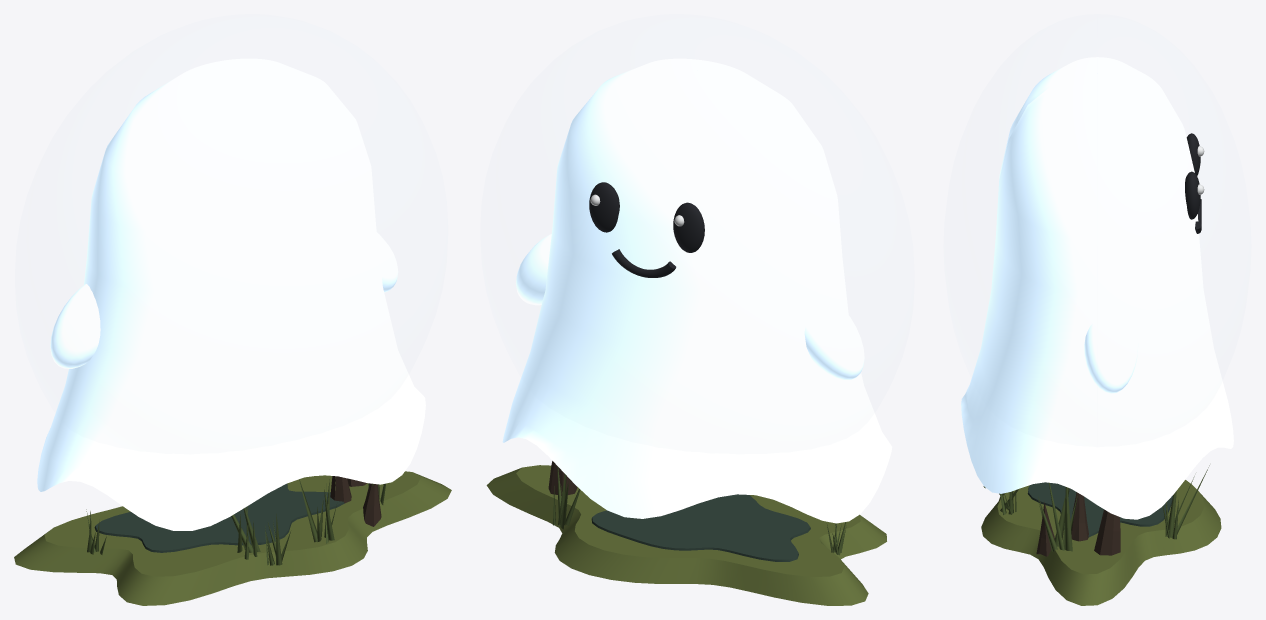
The model's file is BAYOU_GHOST.glb.
3 views of the same model, side by side, from view 1: azimuth 30°, elevation 25°; view 2: azimuth 150°, elevation 25°; view 3: azimuth 270°, elevation 25° (orthographic). The views are drawn at different scales.
Parts seen in each view (by area): view 1: Sheet, Ground, Water, Arm (×2), Grass, CypressKnees; view 2: Sheet, Ground, Water, Arm (×2), Eye (×2), Grass, Smile; view 3: Sheet, Ground, Arm, Grass, CypressKnees, Water, Eye.
Boxes of the visible parts, x1,y1,x2,y2 form: Sheet: (37,58,425,530); Ground: (14,471,451,605); Water: (94,483,344,552); Arm (×2): (50,232,398,368); Grass: (86,479,385,565); CypressKnees: (330,476,381,526); Sheet: (502,58,892,523); Ground: (486,465,886,605); Water: (591,494,810,561); Arm (×2): (515,234,864,380); Eye (×2): (589,182,704,252); Grass: (553,466,846,555); Smile: (612,249,676,277); Sheet: (961,57,1233,519); Ground: (981,480,1221,605); Arm: (1084,312,1138,393); Grass: (983,465,1209,551); CypressKnees: (1036,492,1120,556); Water: (1027,482,1172,537); Eye: (1185,171,1200,219).
Size of the model in its own units: 4.93 by 5.8 by 3.4.
